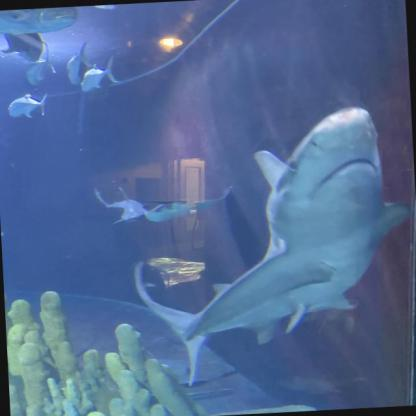fish: (0, 5, 86, 47), (22, 53, 55, 89), (81, 62, 118, 94), (6, 96, 50, 120), (62, 50, 92, 85)
shark: (126, 102, 416, 386)
